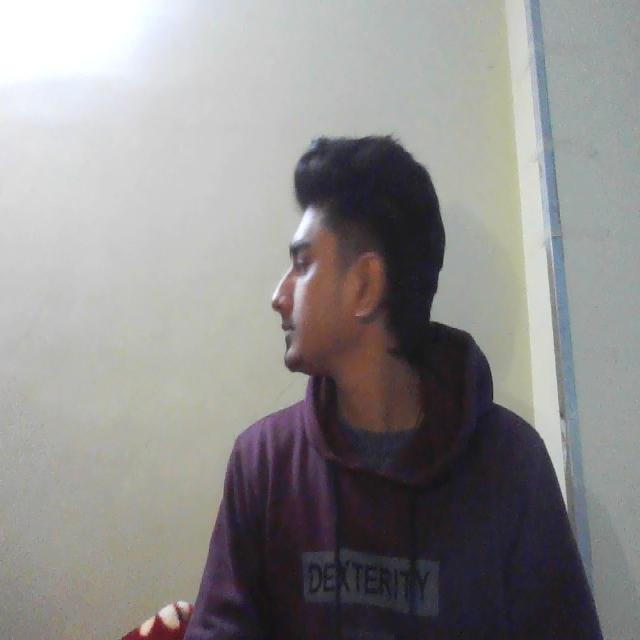real: (278, 165, 390, 378)
